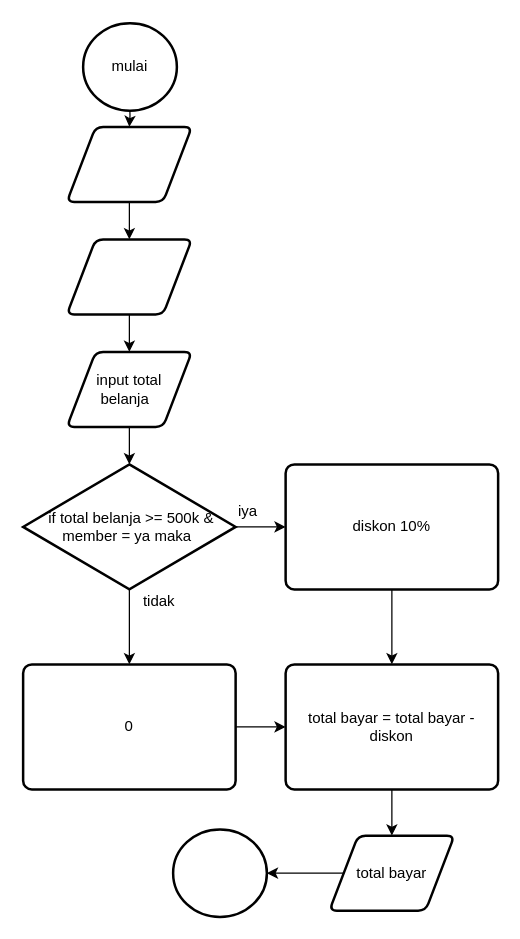
The diagram is 520 pixels wide and 939 high, and some of its shapes have lost their labels. The centre of each missing label's shape, as x and y in pixels:
"input nama" belongs at (128,163).
"input status member" belongs at (128,276).
"selesai" belongs at (219,873).
